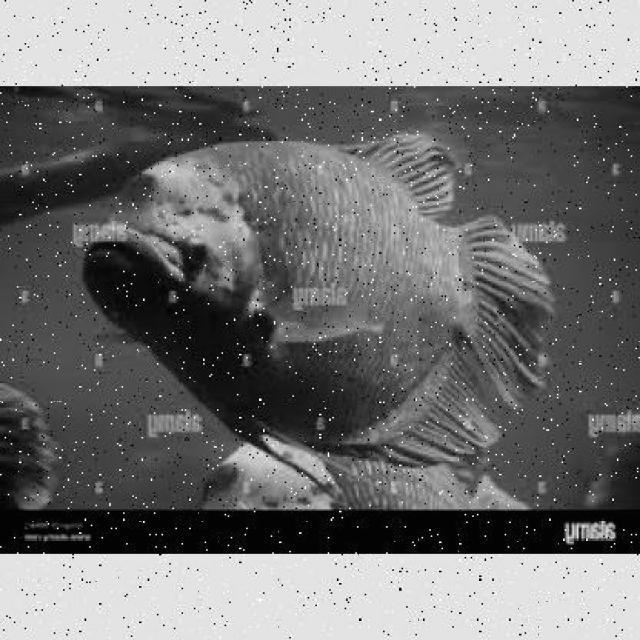gurame: (83, 134, 560, 506)
